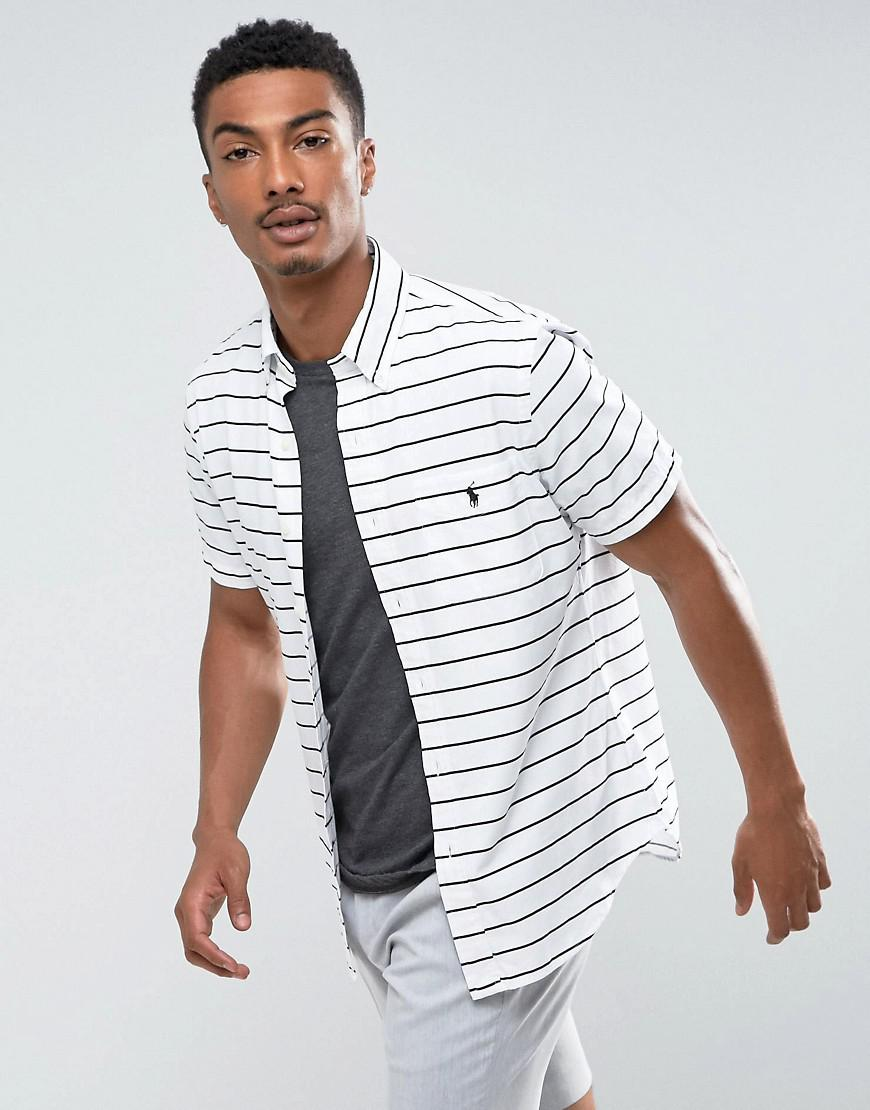teeshirt: (174, 242, 701, 1013)
